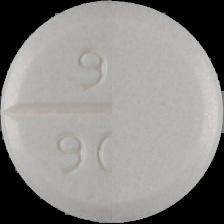49999-301: (0, 0, 224, 224)
